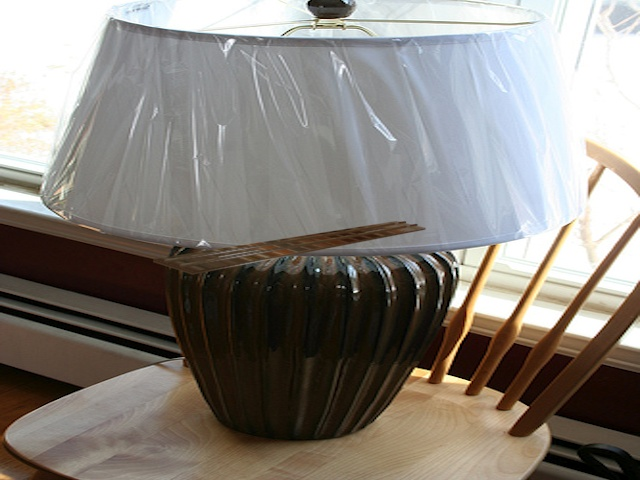ruler: (144, 208, 432, 288)
